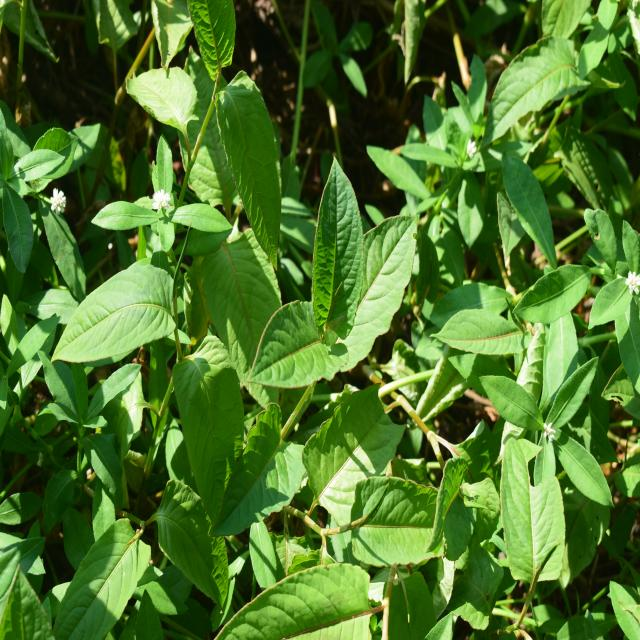Chinese_knotweed: (250, 412, 466, 633), (245, 175, 407, 409)
